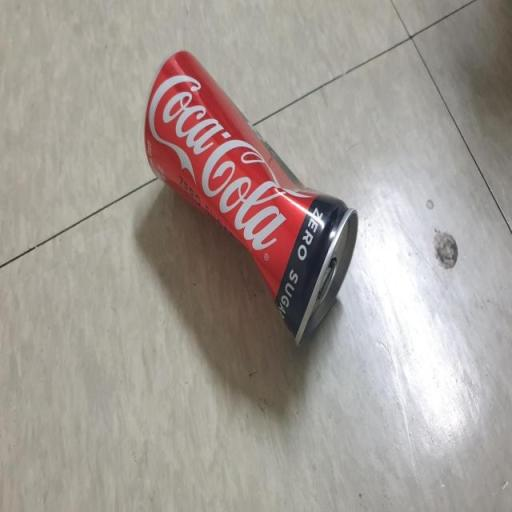metal: (128, 32, 366, 363)
